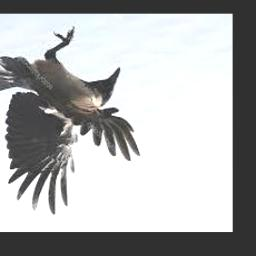Crow: (0, 26, 139, 216)
